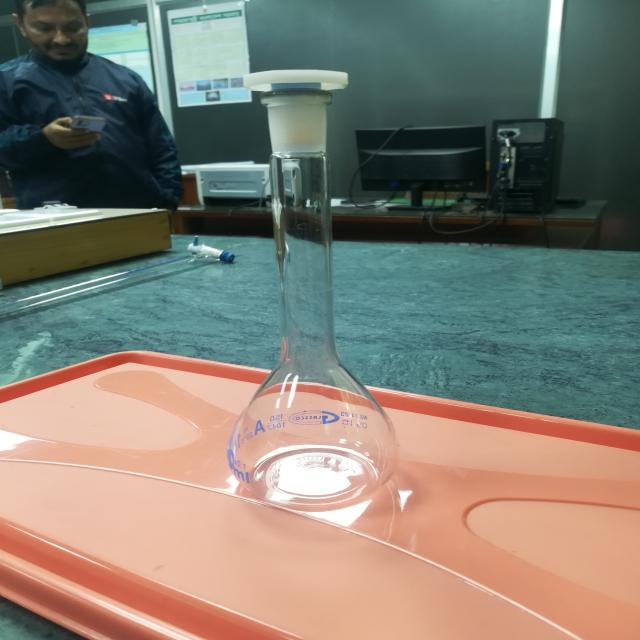Volumetric_Flask: (188, 21, 438, 523)
